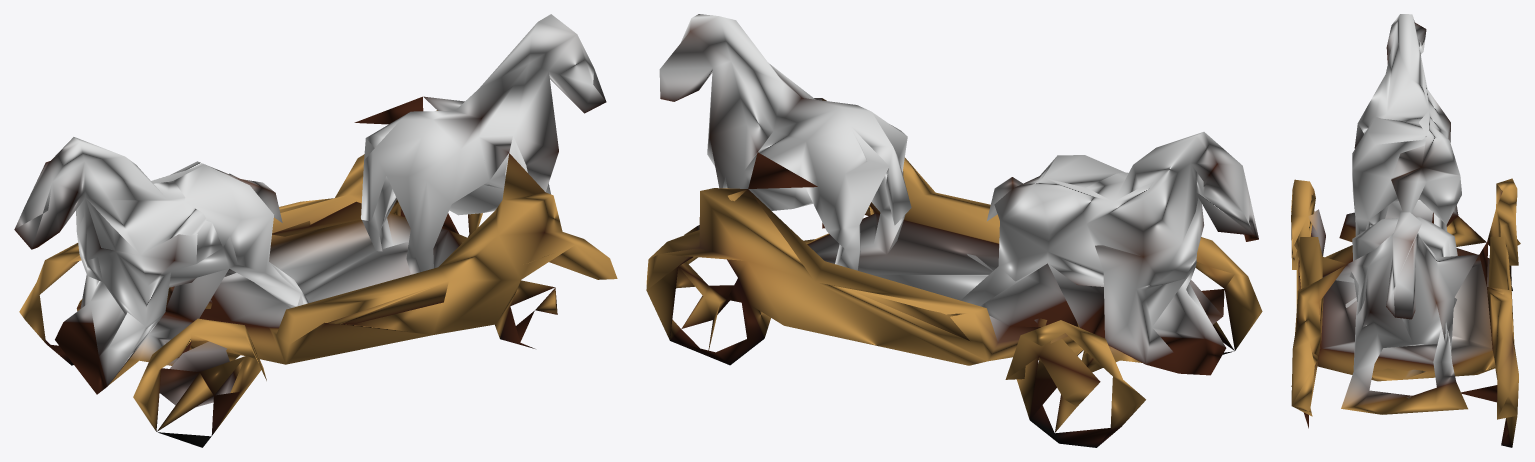
Rendered from gen3d-chariot-lod1.glb.
The picture shows the model from 3 angles, left to right: view 1: azimuth 30°, elevation 25°; view 2: azimuth 150°, elevation 25°; view 3: azimuth 270°, elevation 25°; orthographic projection. The views are drawn at different scales.
Visible parts, largest first — view 1: part_0; view 2: part_0; view 3: part_0.
Part boxes in pixels (x1,y1,x2,y2): part_0: (14, 14, 617, 447); part_0: (646, 14, 1262, 447); part_0: (1291, 14, 1520, 447).
Size of the model in its own units: 2.14 by 0.9991 by 0.8238.
